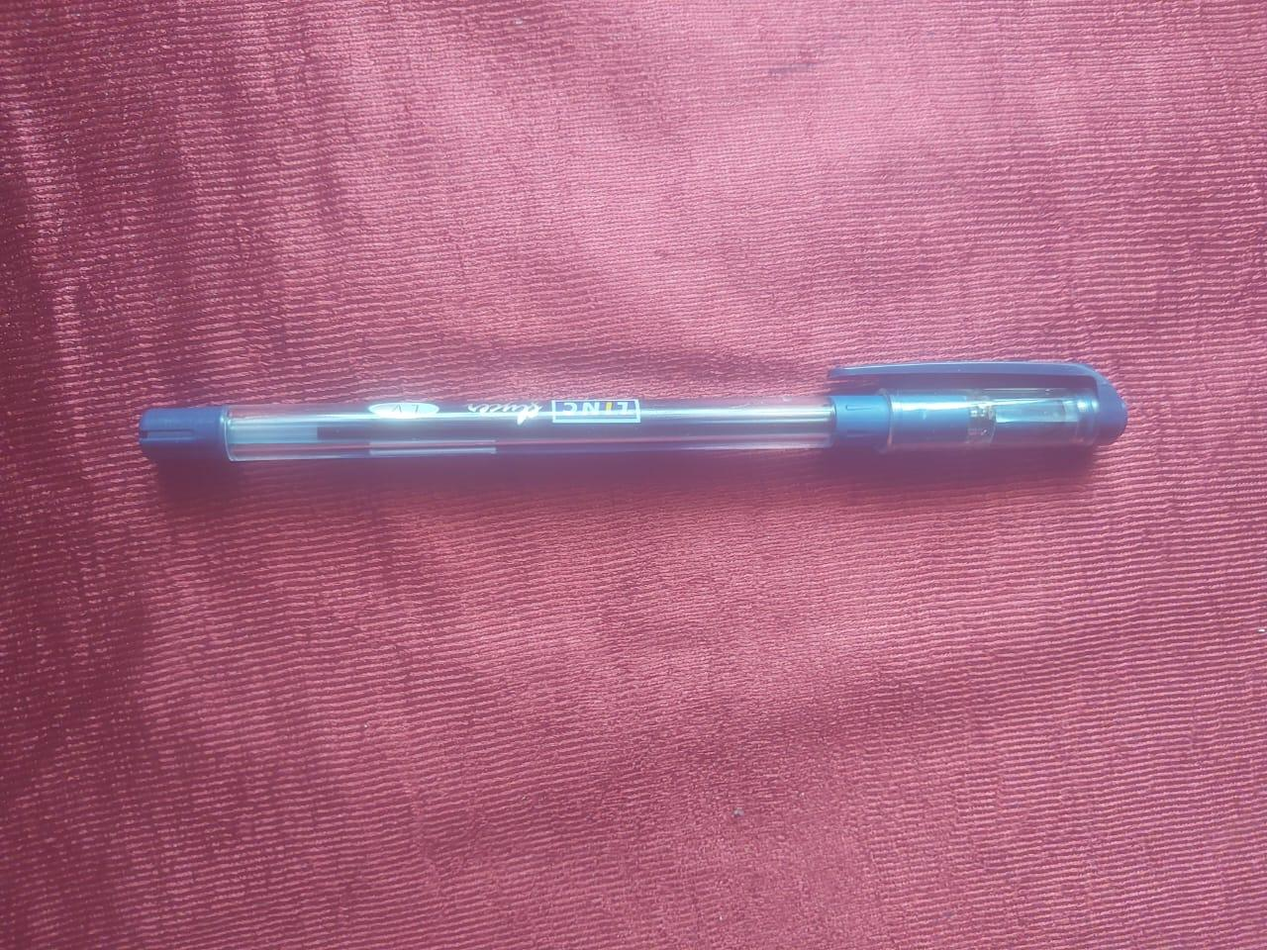pen: (128, 350, 1146, 466)
